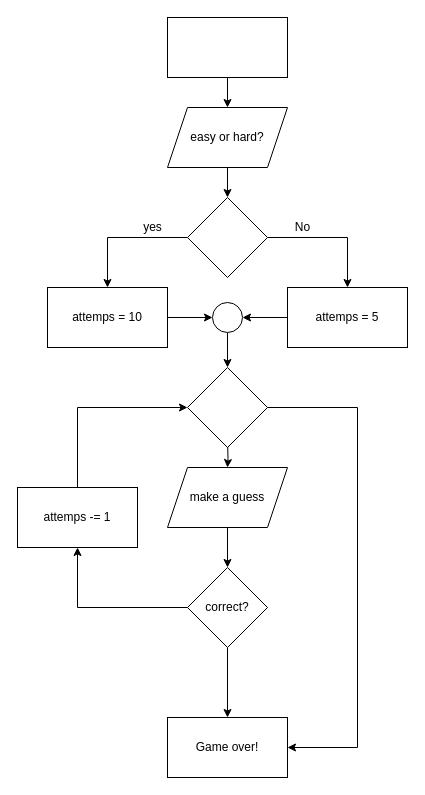
Some shapes in this 425 by 795 pixel diagram are drawn without their labels. Each missing label, with the centre of its shape:
"attemps > 0" goes at point 227,407.
"Guess the number" goes at point 227,47.
"if easy" goes at point 227,237.
